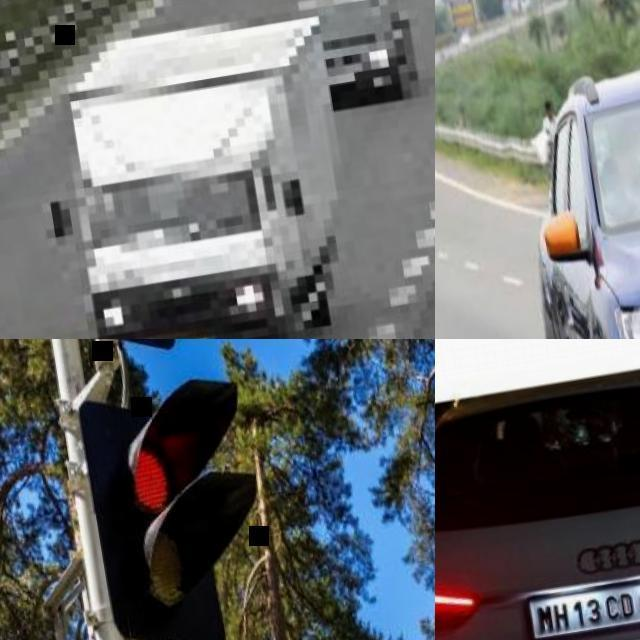car: (263, 405, 432, 639), (537, 66, 639, 340), (522, 570, 639, 638)
